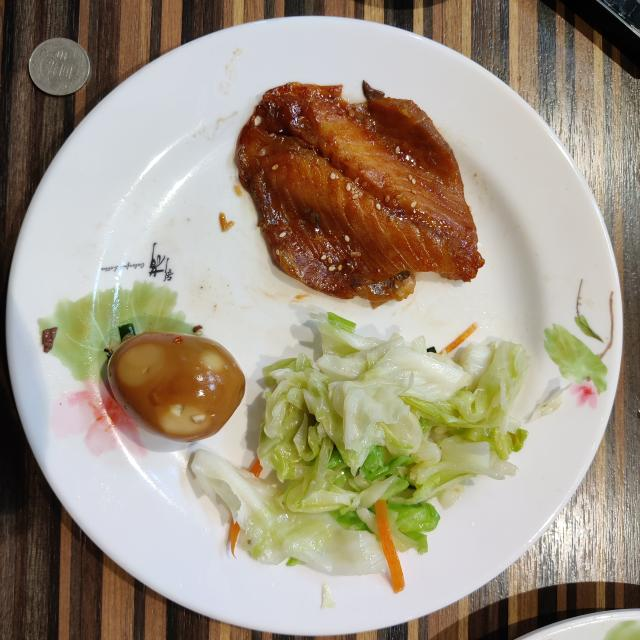Kabayaki sea bream fillet: (236, 82, 484, 304)
cabbage: (191, 312, 529, 592)
coin: (29, 38, 90, 95)
soy egg: (108, 331, 245, 441)
